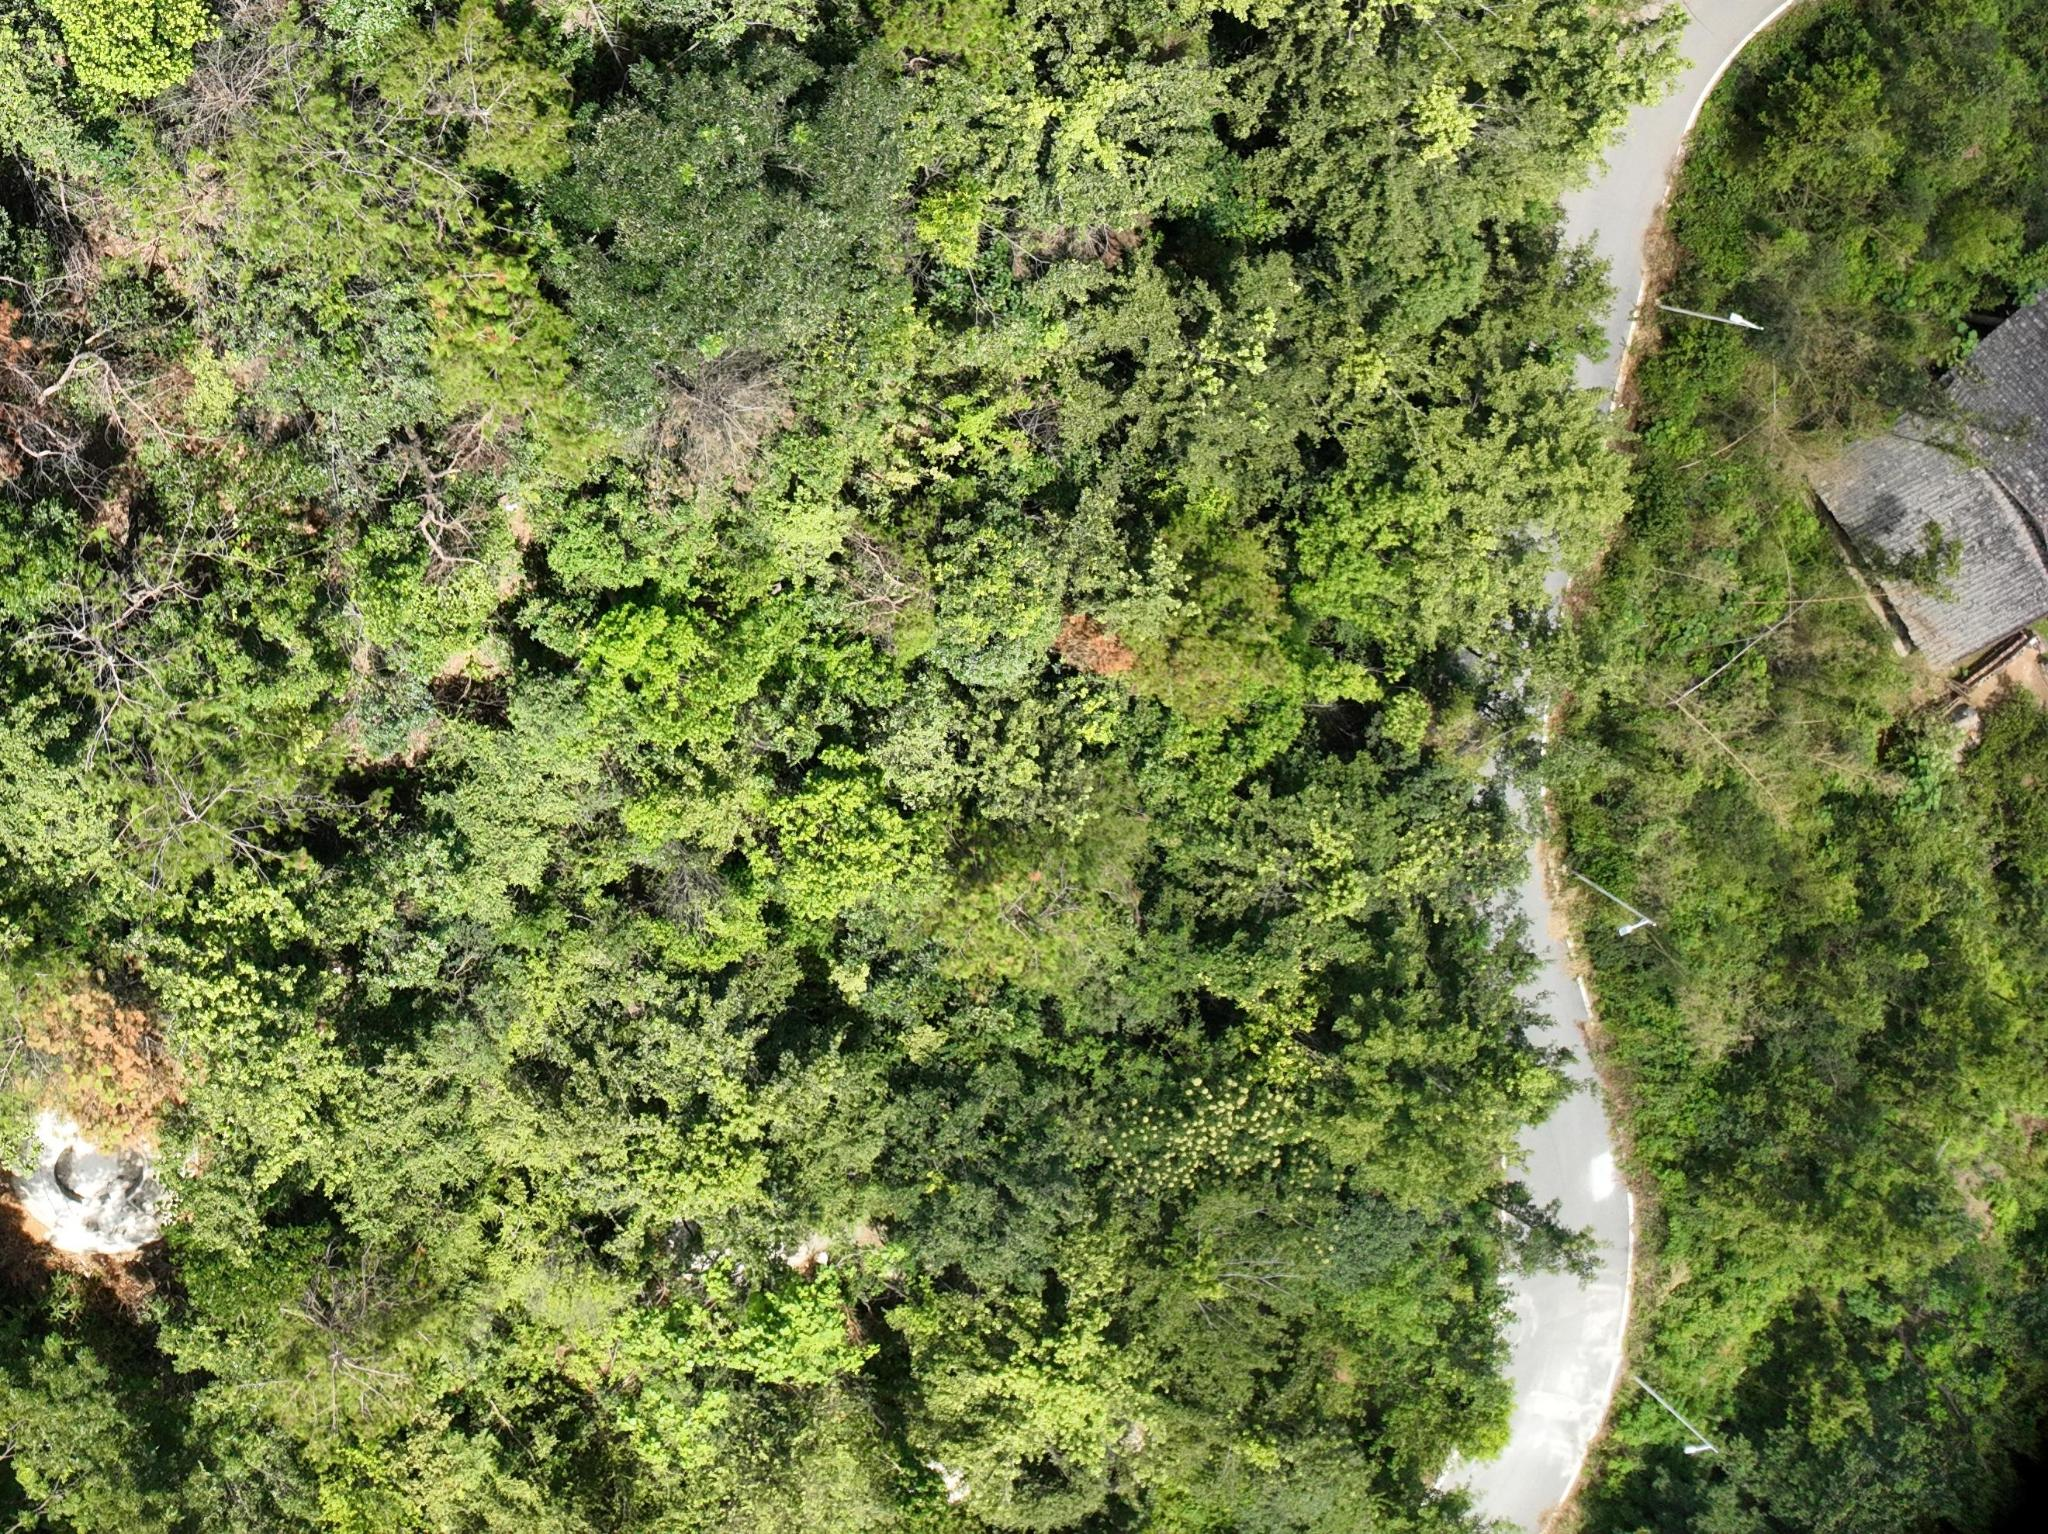heavy: (24, 980, 189, 1150), (1055, 604, 1136, 690)
